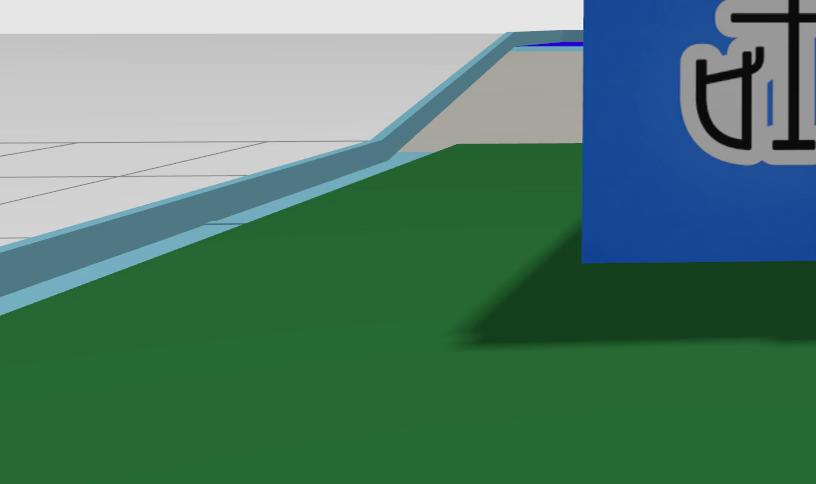KFS_REAL: (583, 0, 816, 261), (682, 0, 816, 165)
